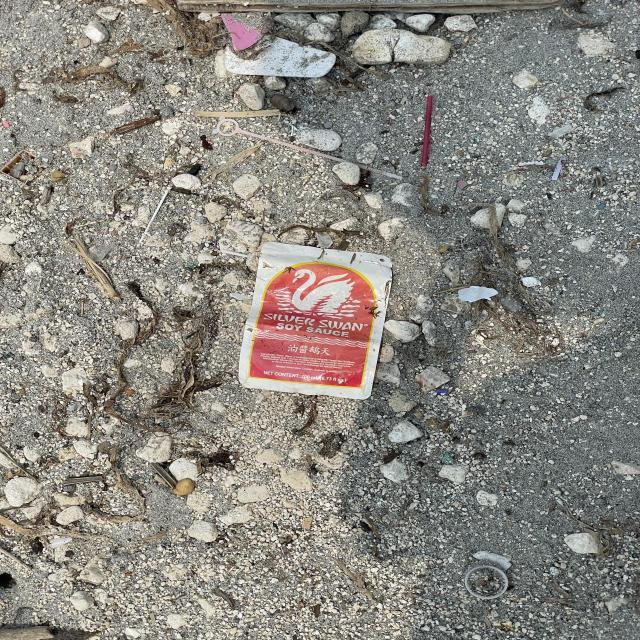plastic_waste: (236, 240, 391, 399)
